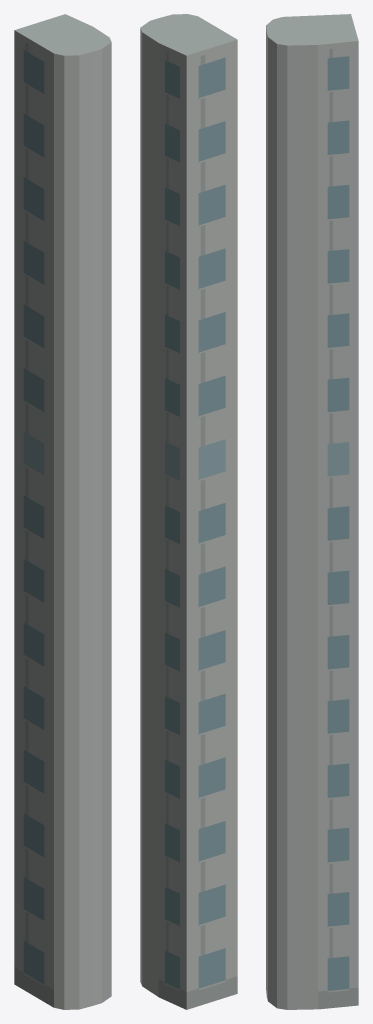
File: survey-upis-32622569.glb
The picture shows the model from 3 angles, left to right: view 1: azimuth 30°, elevation 25°; view 2: azimuth 210°, elevation 25°; view 3: azimuth 270°, elevation 25°; orthographic projection.
Parts seen in each view (by area): view 1: survey-upis-32622569.tmp; view 2: survey-upis-32622569.tmp; view 3: survey-upis-32622569.tmp.
Boxes of the visible parts, box(x1,y1,x2,y2) form: survey-upis-32622569.tmp: box(14, 14, 111, 1009); survey-upis-32622569.tmp: box(140, 14, 237, 1009); survey-upis-32622569.tmp: box(266, 14, 358, 1009).
Bounding box in the file's own units: 3.21 × 45.75 × 3.99.
